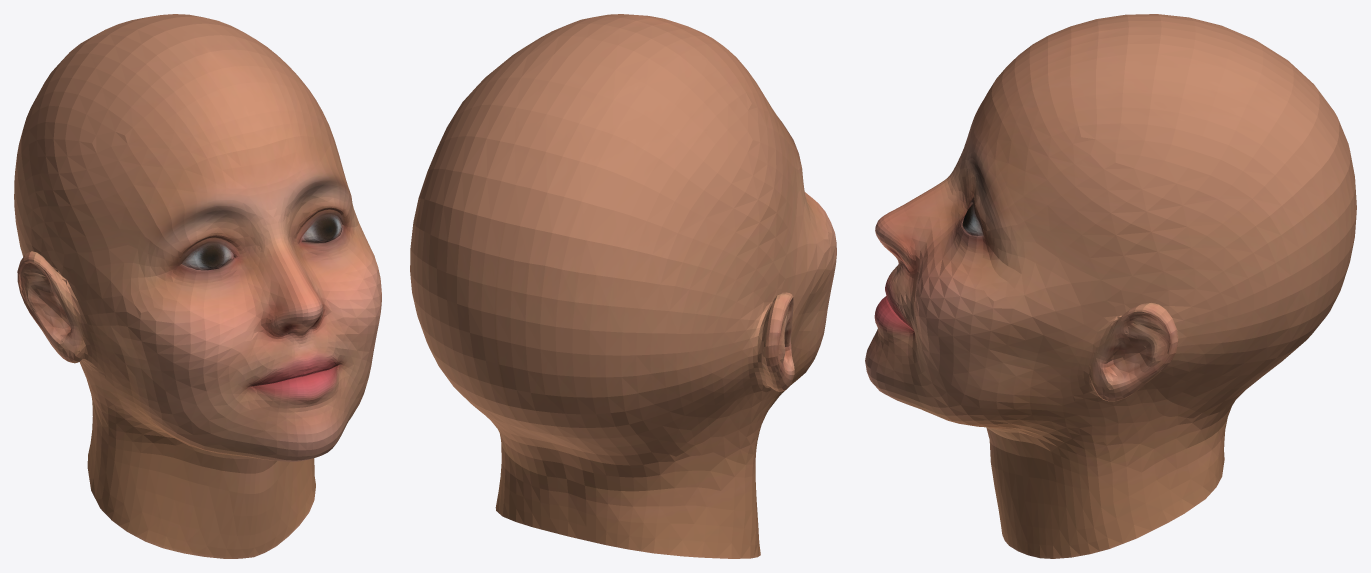
The model's file is face_female.obj.
3 renders of one model, left to right at view 1: azimuth 30°, elevation 25°; view 2: azimuth 150°, elevation 25°; view 3: azimuth 270°, elevation 25°, orthographic. The views are drawn at different scales.
Visible parts, largest first — view 1: skin_hi, eyeR_hi, eyeL_hi; view 2: skin_hi; view 3: skin_hi.
Part boxes in pixels (x1,y1,x2,y2): skin_hi: (14,14,381,558); eyeR_hi: (182,243,233,270); eyeL_hi: (300,214,342,242); skin_hi: (410,14,836,558); skin_hi: (865,14,1356,558).
Size of the model in its own units: 196 by 282 by 248.
7 materials, 7 textured.
